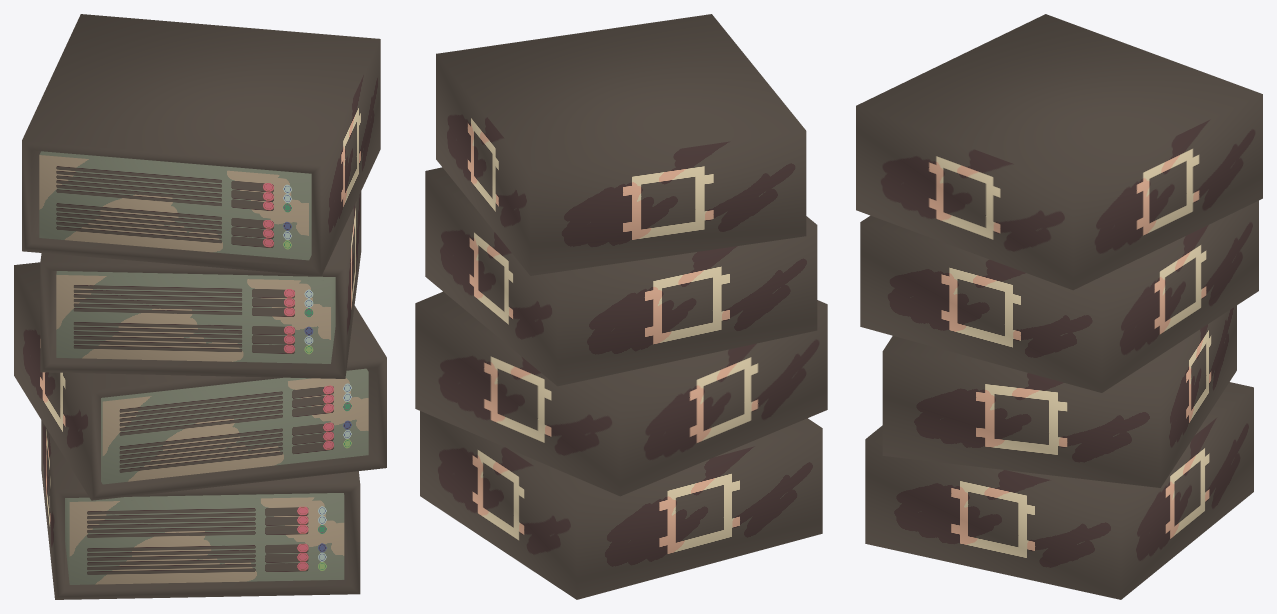
File: latch.glb
3 views of the same model, side by side, from view 1: azimuth 30°, elevation 25°; view 2: azimuth 150°, elevation 25°; view 3: azimuth 270°, elevation 25° (orthographic). The views are drawn at different scales.
Visible parts, largest first — view 1: logic_gate; view 2: logic_gate; view 3: logic_gate.
Part boxes in pixels (x1=…): logic_gate: x1=14, y1=14, x2=386, y2=599; logic_gate: x1=415, y1=14, x2=827, y2=599; logic_gate: x1=856, y1=14, x2=1262, y2=599.
Bounding box in the file's own units: 1.41 × 1.6 × 1.41.
Materials: 1 (1 with a texture image).
